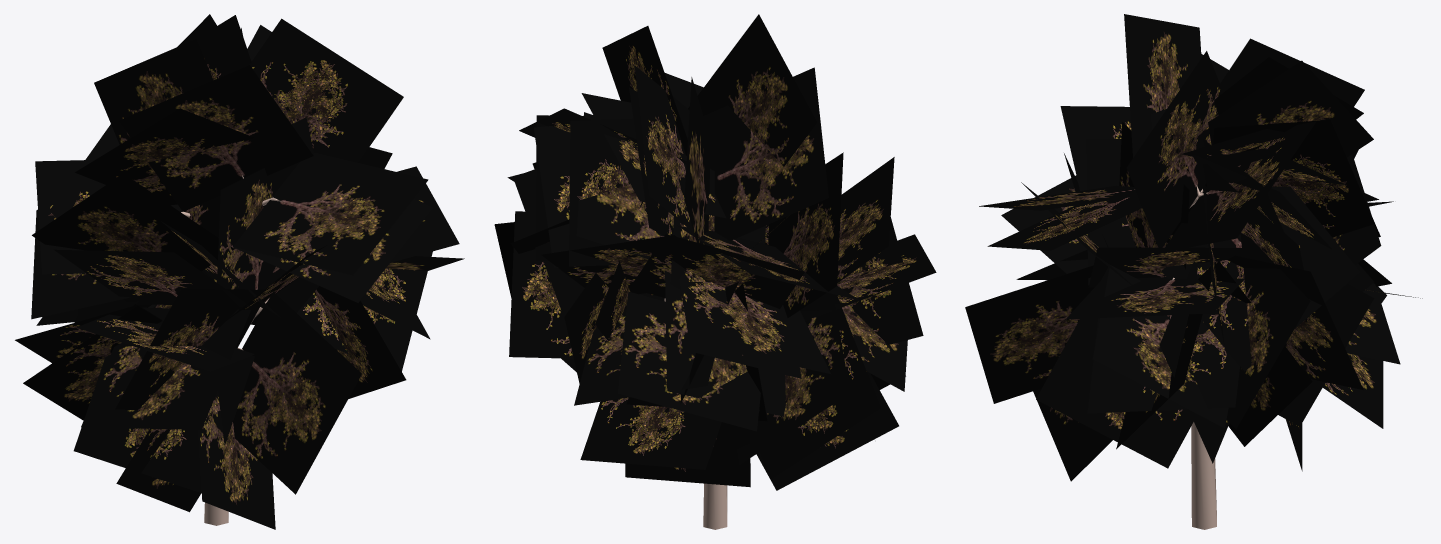
File: tree26.glb
The picture shows the model from 3 angles, left to right: view 1: azimuth 30°, elevation 25°; view 2: azimuth 150°, elevation 25°; view 3: azimuth 270°, elevation 25°; orthographic projection. The views are drawn at different scales.
Size of the model in its own units: 6.16 by 7.3 by 6.02.
Materials: 2 (1 with a texture image).
